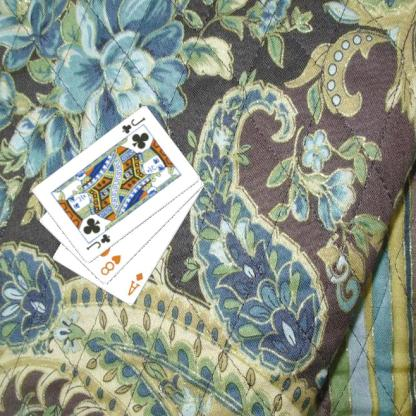8H: (97, 252, 123, 277)
AD: (124, 270, 145, 297)
JC: (119, 114, 147, 136), (83, 231, 112, 252)
